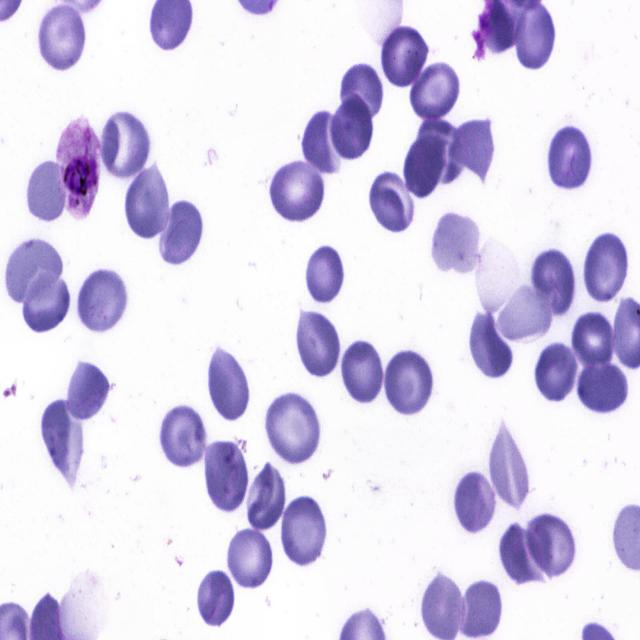red blood cell: (41, 395, 84, 490), (264, 393, 320, 464), (36, 0, 88, 75), (489, 417, 530, 512), (381, 346, 436, 416), (4, 240, 63, 303), (98, 108, 151, 178), (582, 229, 630, 305), (278, 495, 328, 567), (378, 22, 432, 88), (295, 304, 341, 381), (269, 160, 325, 223), (546, 119, 594, 192), (76, 268, 129, 334), (126, 162, 170, 240), (526, 513, 577, 579), (21, 269, 70, 337), (430, 208, 480, 274), (408, 58, 461, 120), (416, 117, 465, 184), (204, 441, 249, 513), (340, 336, 386, 406), (468, 309, 514, 379), (496, 284, 553, 340), (368, 169, 417, 234), (208, 347, 250, 422), (514, 0, 556, 73), (300, 110, 346, 176), (159, 405, 207, 468), (329, 93, 374, 160), (451, 113, 496, 180), (575, 361, 629, 415), (401, 133, 444, 200), (531, 250, 576, 314), (159, 200, 203, 264), (451, 472, 496, 534), (226, 529, 273, 587), (338, 62, 384, 121), (247, 463, 286, 532), (500, 524, 544, 584), (535, 342, 578, 403), (67, 358, 109, 420), (572, 312, 615, 371), (26, 162, 68, 222), (304, 244, 344, 306), (461, 582, 504, 638), (196, 568, 234, 626)
schizont: (56, 112, 102, 222)
